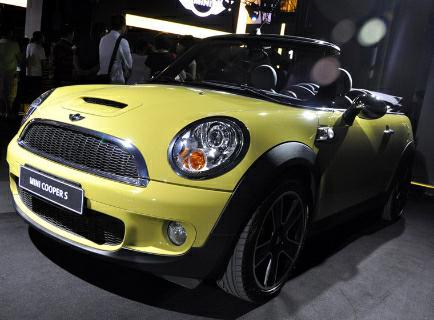MINI: (5, 35, 415, 296)
